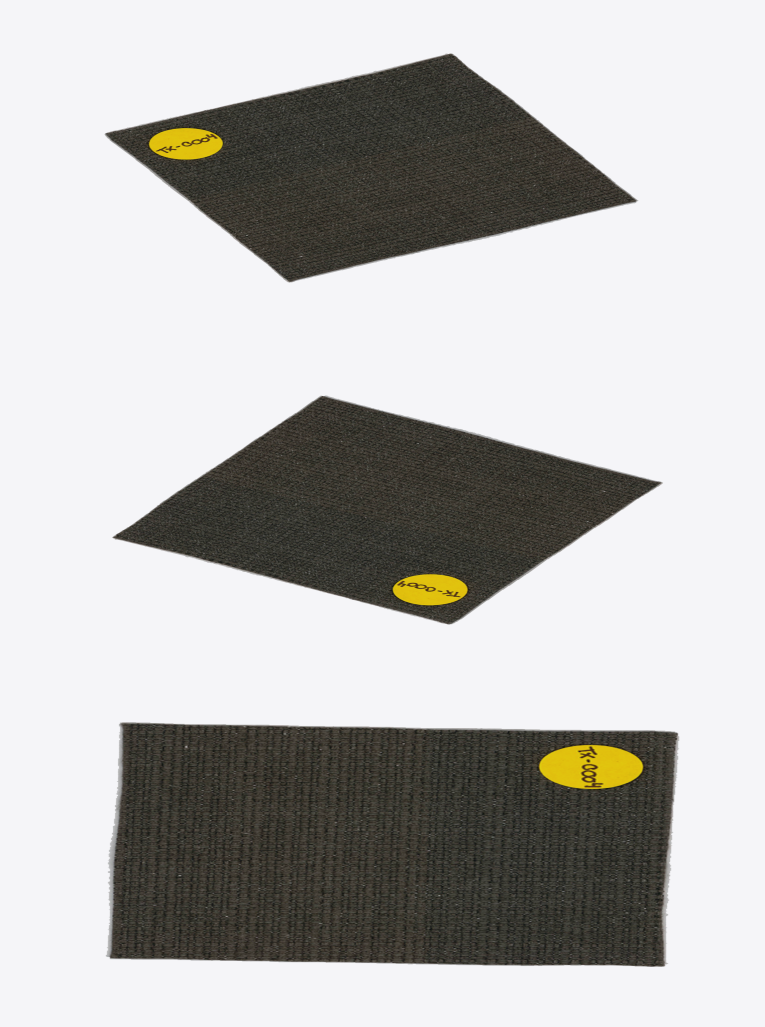
3 renders of one model, top to bottom at view 1: azimuth 30°, elevation 25°; view 2: azimuth 150°, elevation 25°; view 3: azimuth 270°, elevation 25°, orthographic. The views are drawn at different scales.
Visible parts, largest first — view 1: tx004.png; view 2: tx004.png; view 3: tx004.png.
Part boxes in pixels (<box>): tx004.png: <box>104,53,638,282</box>; tx004.png: <box>112,395,662,624</box>; tx004.png: <box>105,722,679,966</box>.
Bounding box in the file's own units: 0.0126 × 0 × 0.0121.
1 material, 1 textured.
